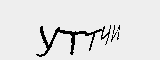И: (110, 21, 122, 45)
Т: (59, 28, 83, 54), (83, 25, 103, 56)
У: (32, 25, 59, 58)
Ч: (98, 21, 112, 48)
